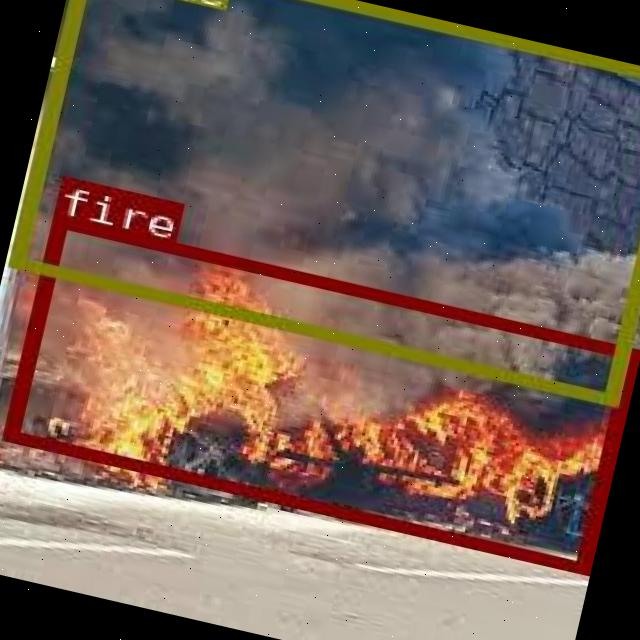fire: (1, 213, 636, 570)
smoke: (7, 0, 640, 402)
